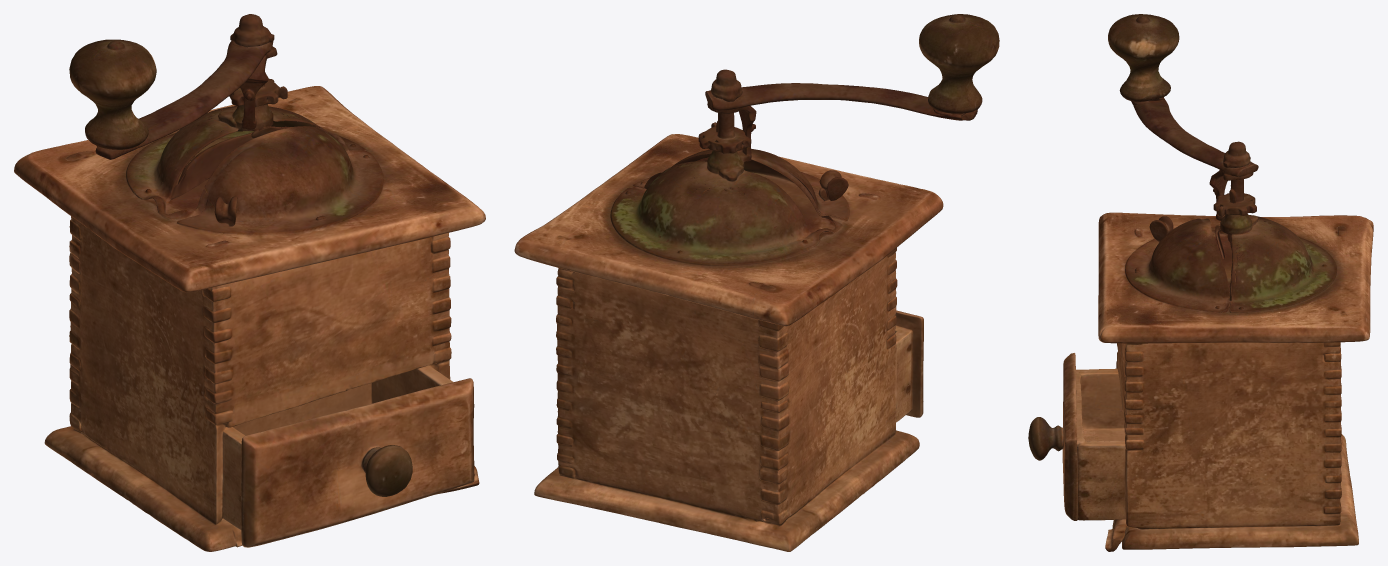
The model's file is mlin-2.glb.
3 views of the same model, side by side, from view 1: azimuth 30°, elevation 25°; view 2: azimuth 150°, elevation 25°; view 3: azimuth 270°, elevation 25° (orthographic). The views are drawn at different scales.
Bounding box in the file's own units: 1.5 × 1.9 × 1.47.
Materials: 1 (1 with a texture image).
